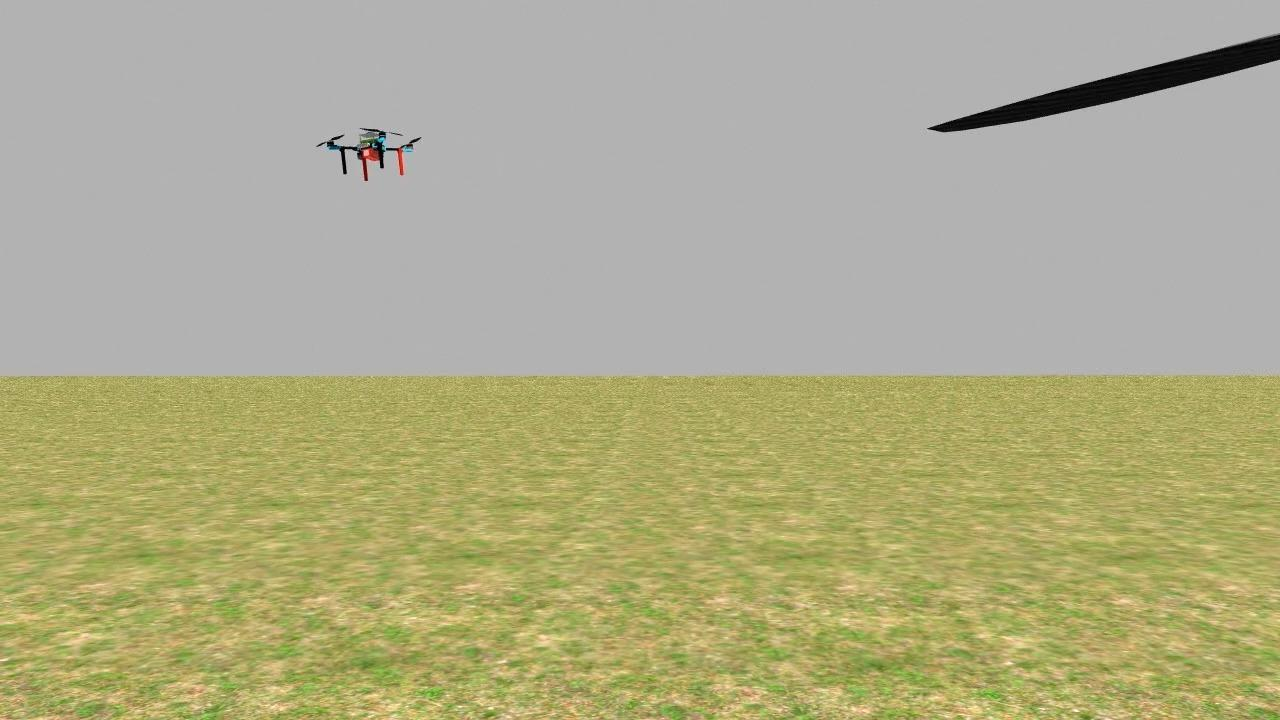UAV: (299, 110, 437, 196)
